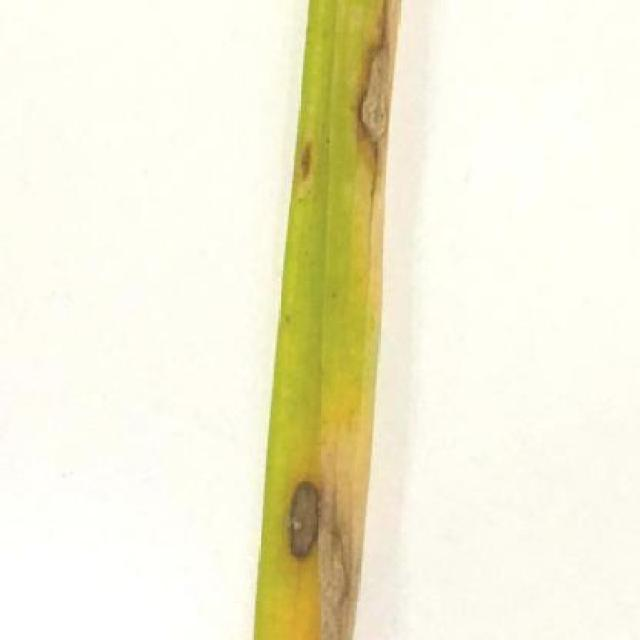Bacterial_Leaf_Blight: (273, 429, 350, 586), (353, 7, 412, 195), (288, 128, 318, 186)
